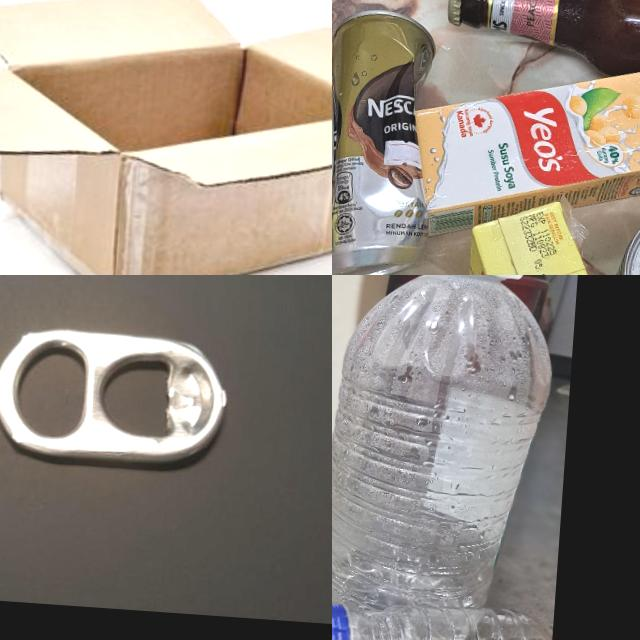aba de lata: (0, 321, 229, 474)
caixinha: (397, 52, 640, 251), (453, 195, 613, 275)
garrafa de vidro: (443, 0, 640, 97)
garrafa plástica: (332, 275, 561, 640)
lata: (332, 4, 437, 275)
papelão: (0, 0, 332, 275)
